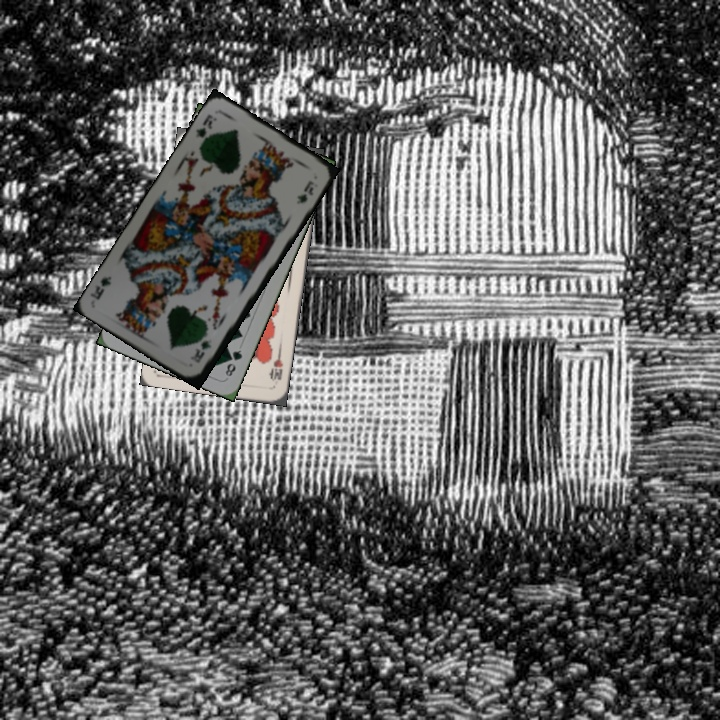G8: (221, 346, 245, 379)
GK: (191, 110, 219, 141), (189, 335, 214, 365)
H10: (266, 348, 286, 383)
